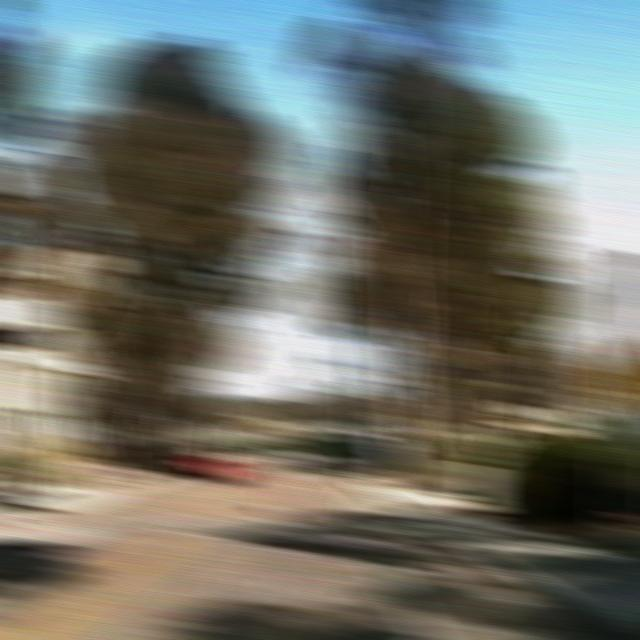pedestrianCrossing: (588, 334, 638, 412)
